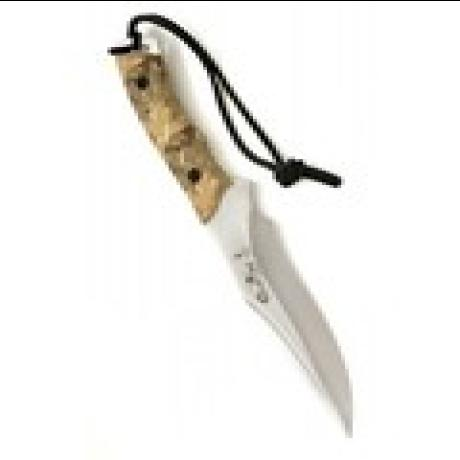weapon: (109, 35, 360, 433)
